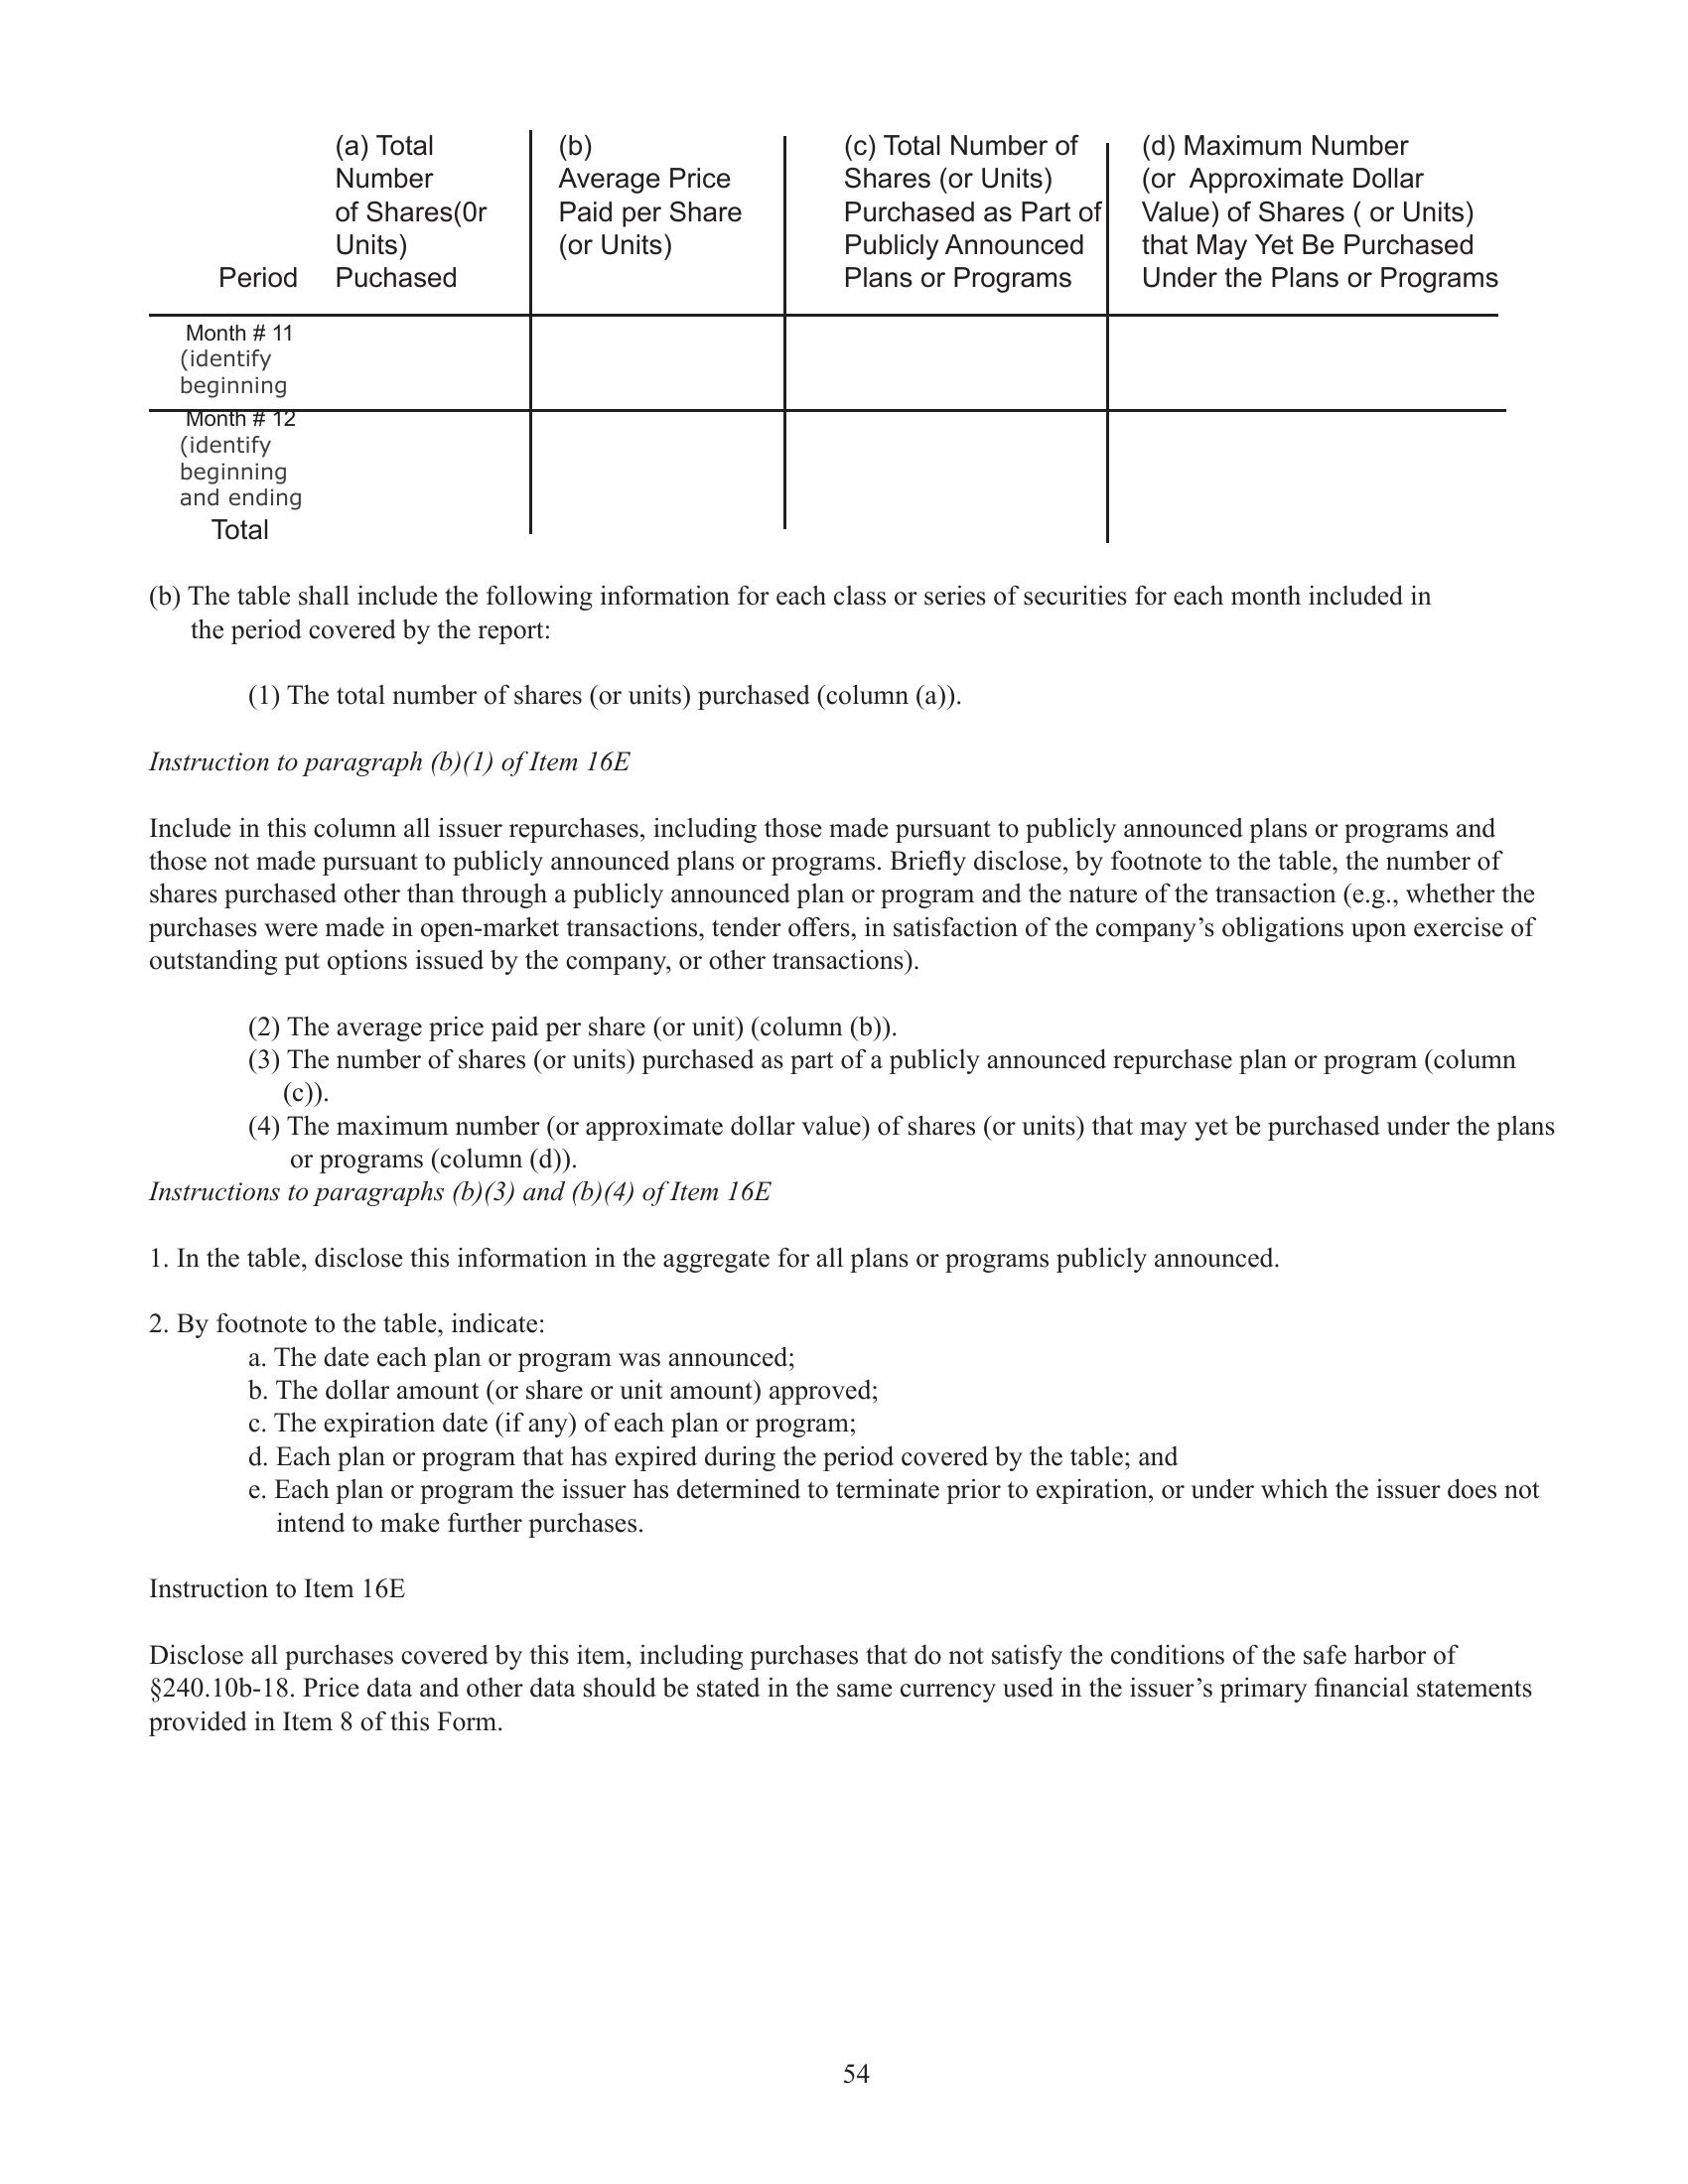table: (144, 112, 1516, 546)
